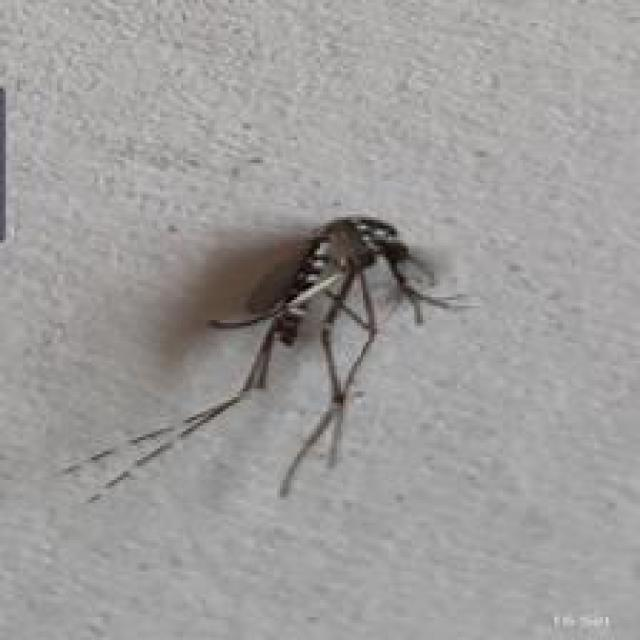Aedes albopictus: (61, 213, 478, 504)
